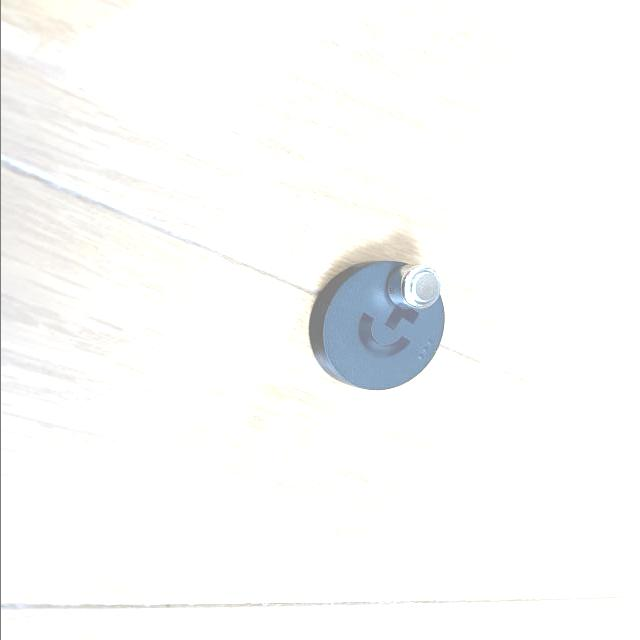COIN: (382, 264, 440, 310)
